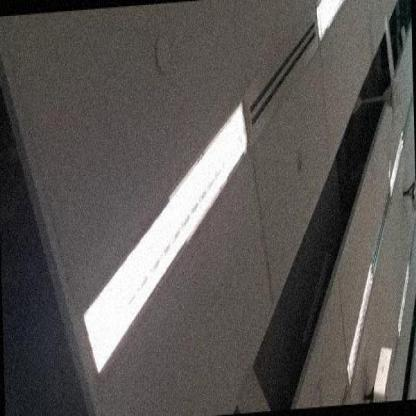light_on: (69, 88, 263, 394), (336, 250, 378, 388), (310, 0, 354, 58), (380, 126, 412, 200), (391, 254, 415, 342)
